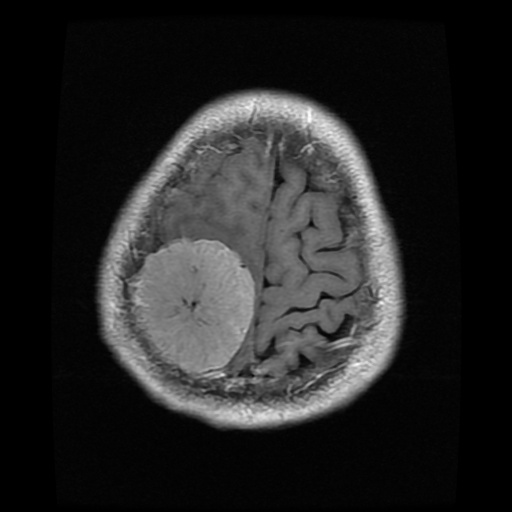meningioma: (129, 238, 253, 372)
